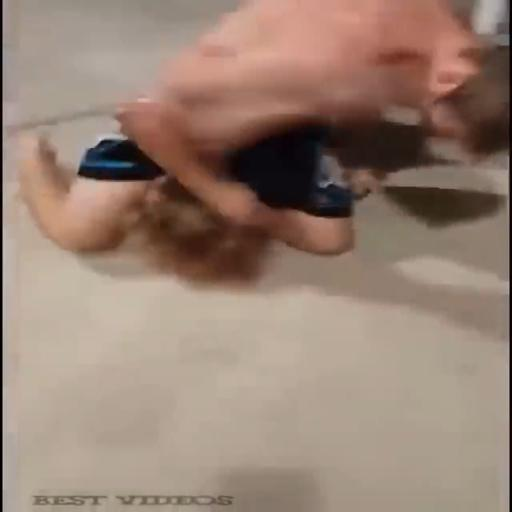violencia: (0, 0, 512, 307)
